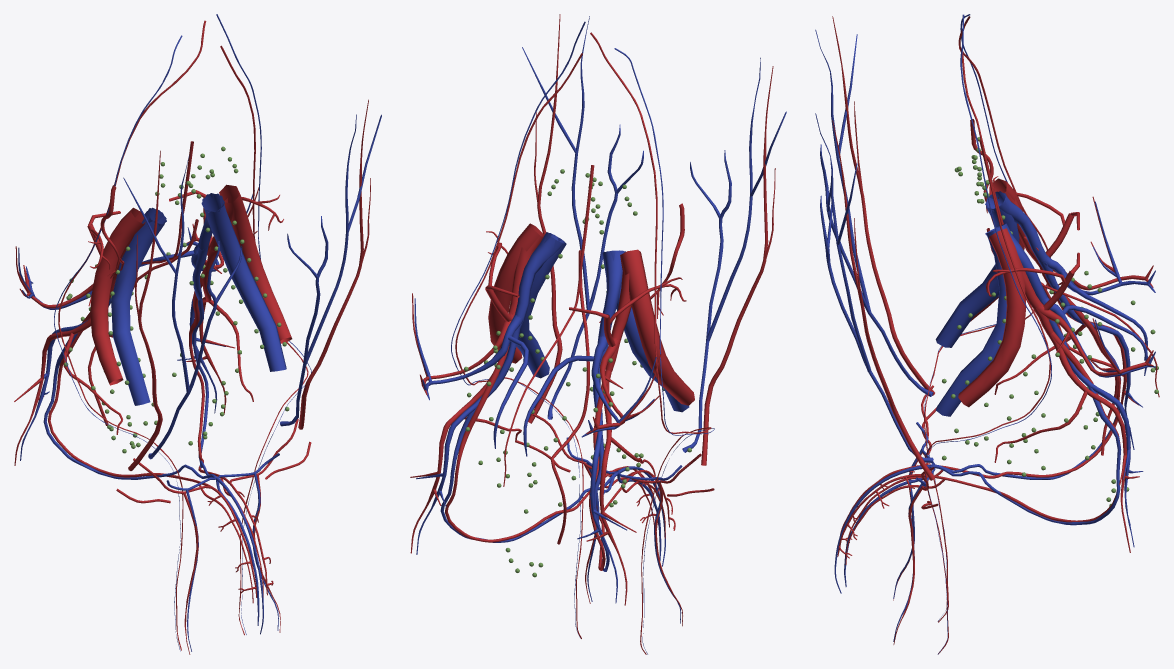
Rendered from vessels-pelvis.glb.
3 renders of one model, left to right at view 1: azimuth 30°, elevation 25°; view 2: azimuth 150°, elevation 25°; view 3: azimuth 270°, elevation 25°, orthographic. The views are drawn at different scales.
Parts seen in each view (by area): view 1: vessel-external-iliac-vein-r, vessel-external-iliac-vein-l, vessel-external-iliac-artery-r, vessel-superficial-epigastric-vein-r, vessel-superficial-epigastric-vein-l, vessel-external-iliac-artery-l, vessel-superficial-epigastric-artery-r, vessel-superficial-epigastric-artery-l, vessel-right-testicular-artery-r, vessel-internal-pudendal-vein-r, vessel-left-testicular-artery, vessel-right-testicular-vein (+13 smaller); view 2: vessel-external-iliac-artery-r, vessel-superficial-epigastric-vein-r, vessel-superficial-epigastric-vein-l, vessel-superficial-epigastric-artery-r, vessel-external-iliac-artery-l, vessel-right-testicular-artery-r, vessel-external-iliac-vein-l, vessel-superficial-epigastric-artery-l, vessel-left-testicular-artery, vessel-inferior-gluteal-veins-l, vessel-internal-iliac-vein-l, vessel-superior-anorectal-artery (+21 smaller); view 3: vessel-external-iliac-artery-l, vessel-superficial-epigastric-vein-l, vessel-external-iliac-vein-l, vessel-external-iliac-vein-r, vessel-superficial-epigastric-vein-r, vessel-superficial-epigastric-artery-r, vessel-superficial-epigastric-artery-l, vessel-left-testicular-artery, vessel-internal-pudendal-vein-l, vessel-inferior-gluteal-artery-l, vessel-inferior-gluteal-veins-l, vessel-right-testicular-artery-r (+18 smaller).
Boxes of the visible parts, x1,y1,x2,y2 form: vessel-external-iliac-vein-r: (111, 208, 166, 405); vessel-external-iliac-vein-l: (202, 193, 286, 371); vessel-external-iliac-artery-r: (90, 208, 145, 385); vessel-superficial-epigastric-vein-r: (123, 155, 242, 459); vessel-superficial-epigastric-vein-l: (280, 114, 381, 426); vessel-external-iliac-artery-l: (219, 187, 292, 343); vessel-superficial-epigastric-artery-r: (128, 150, 162, 470); vessel-superficial-epigastric-artery-l: (298, 99, 370, 429); vessel-right-testicular-artery-r: (58, 20, 206, 650); vessel-internal-pudendal-vein-r: (43, 327, 202, 479); vessel-left-testicular-artery: (220, 45, 308, 635); vessel-right-testicular-vein: (54, 35, 182, 651); vessel-external-iliac-artery-r: (620, 249, 694, 405); vessel-superficial-epigastric-vein-r: (682, 57, 786, 452); vessel-superficial-epigastric-vein-l: (522, 16, 643, 419); vessel-superficial-epigastric-artery-r: (701, 66, 775, 465); vessel-external-iliac-artery-l: (488, 223, 544, 363); vessel-right-testicular-artery-r: (590, 32, 711, 654); vessel-external-iliac-vein-l: (516, 232, 566, 378); vessel-superficial-epigastric-artery-l: (528, 14, 562, 423); vessel-left-testicular-artery: (455, 53, 583, 638); vessel-inferior-gluteal-veins-l: (416, 315, 524, 554); vessel-internal-iliac-vein-l: (515, 232, 566, 318); vessel-superior-anorectal-artery: (550, 250, 589, 544); vessel-external-iliac-artery-l: (958, 228, 1026, 407); vessel-superficial-epigastric-vein-l: (815, 113, 933, 462); vessel-external-iliac-vein-l: (935, 224, 1006, 416); vessel-external-iliac-vein-r: (935, 191, 1019, 347); vessel-superficial-epigastric-vein-r: (815, 29, 933, 396); vessel-superficial-epigastric-artery-r: (832, 16, 934, 395); vessel-superficial-epigastric-artery-l: (832, 120, 935, 480); vessel-left-testicular-artery: (925, 50, 1050, 654); vessel-internal-pudendal-vein-l: (953, 385, 1121, 525); vessel-inferior-gluteal-artery-l: (1048, 334, 1139, 552); vessel-inferior-gluteal-veins-l: (1042, 297, 1143, 547); vessel-right-testicular-artery-r: (924, 16, 1047, 622).
Bounding box in the file's own units: 0.1655 × 0.3767 × 0.1861.
